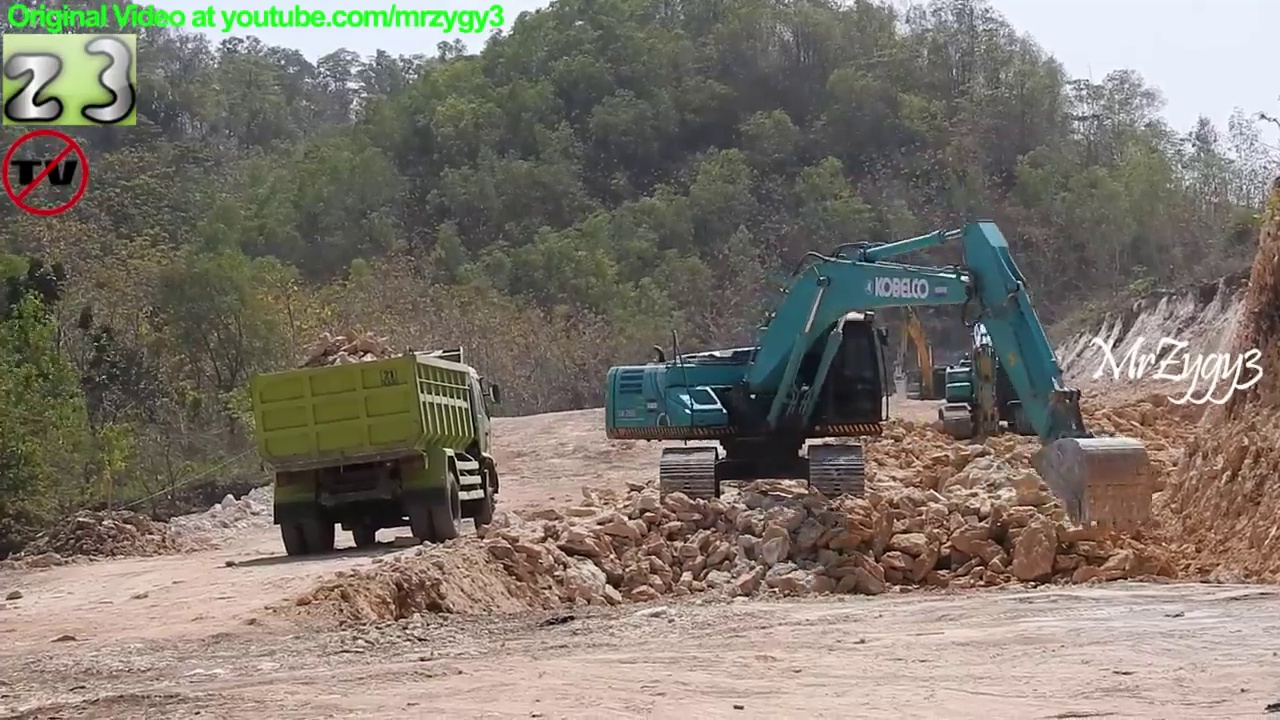excavator: (599, 213, 1161, 537), (937, 306, 1067, 450), (881, 292, 954, 410)
truck: (244, 343, 510, 564)
